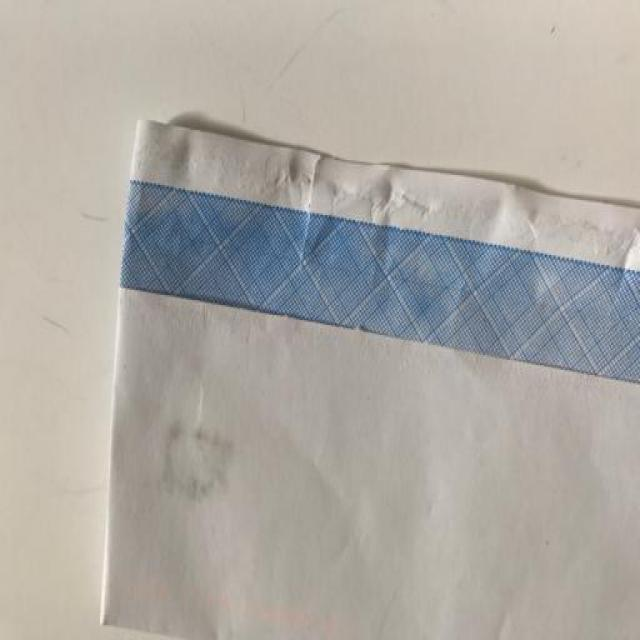paper: (80, 92, 640, 640)
